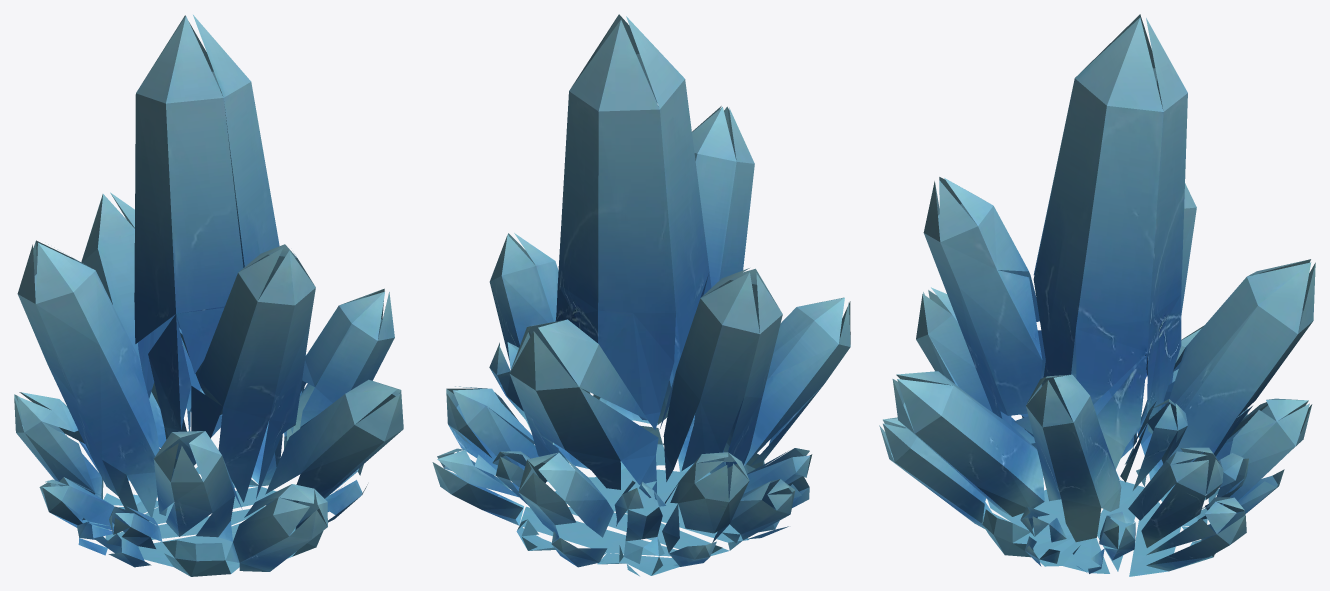
The model's file is minerals_LOD1.glb.
3 views of the same model, side by side, from view 1: azimuth 30°, elevation 25°; view 2: azimuth 150°, elevation 25°; view 3: azimuth 270°, elevation 25° (orthographic). The views are drawn at different scales.
Parts seen in each view (by area): view 1: minerals_LOD1; view 2: minerals_LOD1; view 3: minerals_LOD1.
Boxes of the visible parts, box(x1,y1,x2,y2) form: minerals_LOD1: box(14, 15, 403, 576); minerals_LOD1: box(432, 14, 850, 576); minerals_LOD1: box(879, 14, 1315, 576).
Size of the model in its own units: 0.6594 by 0.9999 by 0.769.
Materials: 1 (1 with a texture image).
